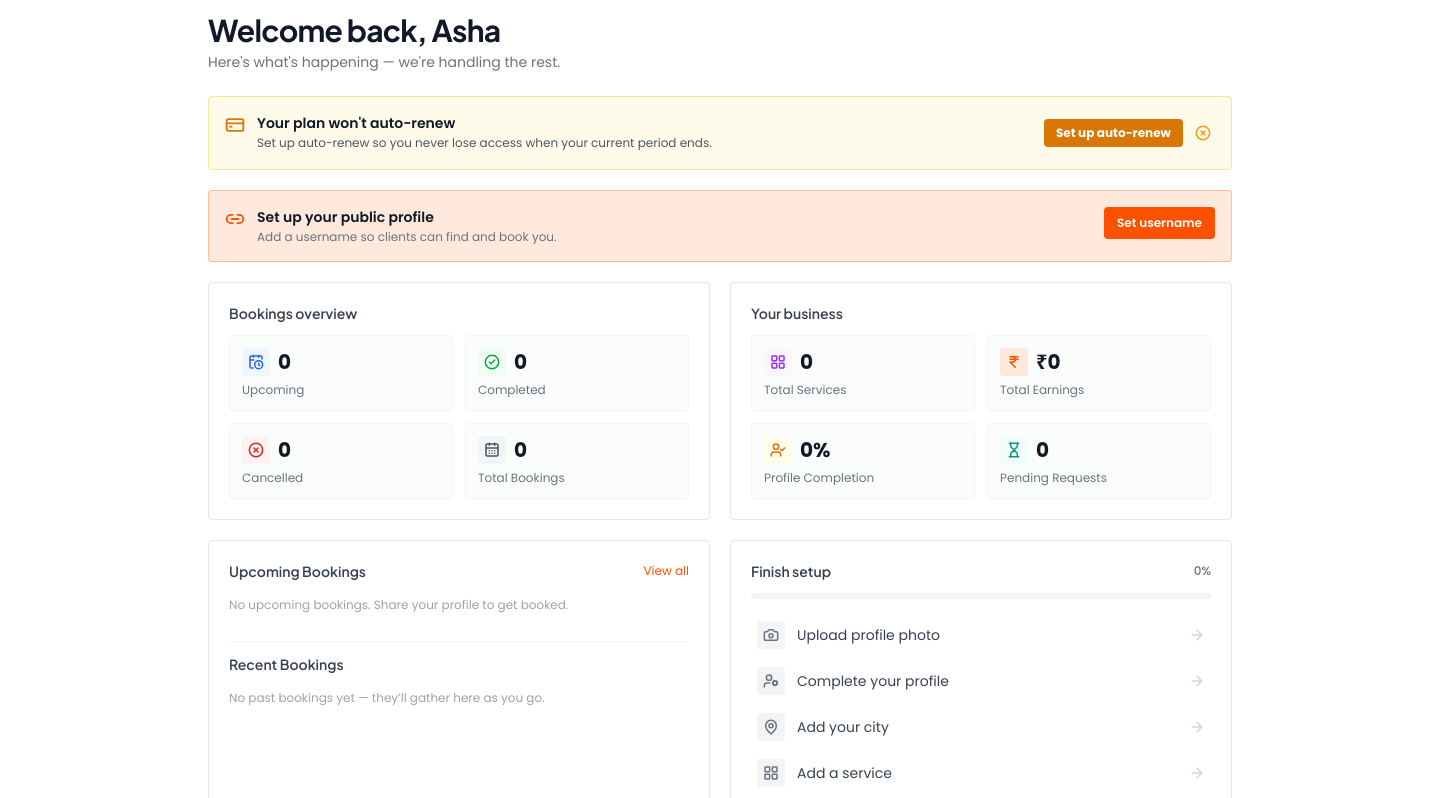
Test: dismiss hides the banner and persists it server-side
The image size is (1440, 798).
Expected: the text "Your plan won't auto-renew" is shown, 257,113 -> 455,133
Click the button named "Dismiss".
click(1203, 133)  # box 1191,113 -> 1215,153
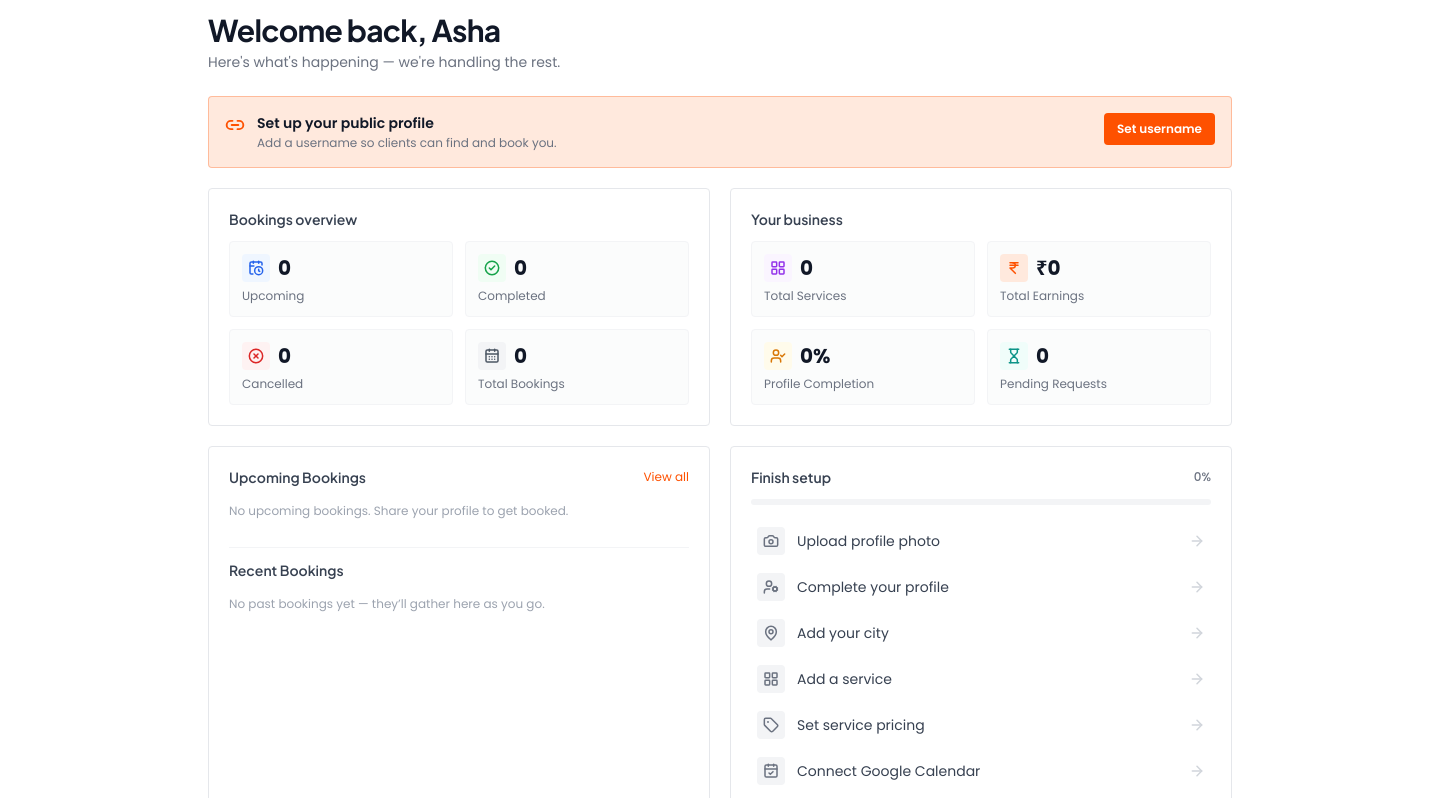
Expected: the text "won't auto-renew" is gone
